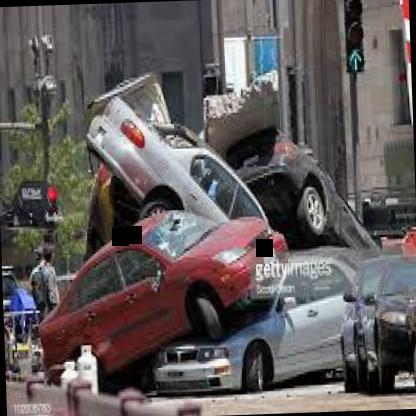accident: (40, 48, 416, 400)
